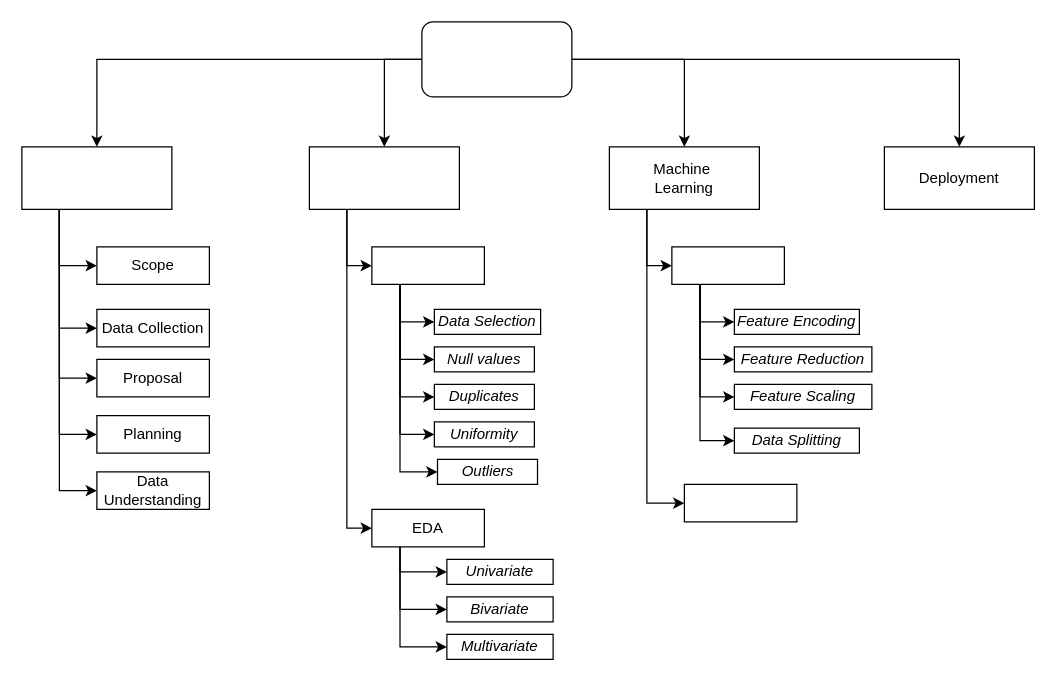
Image size: 1056x681. Some labels were removed from this diagram. The centre of each missing label's shape, as x and y in pixels:
"Data Cleaning" goes at (x=427, y=265).
"Data Cleaning & Analysis" goes at (x=383, y=177).
"HYPOTHYROID DISEASE PREDICTION SYSTEM" goes at (x=496, y=59).
"Modeling" goes at (x=740, y=502).
"Pre-Processing" goes at (x=727, y=265).
"Project Planning" goes at (x=96, y=177).
